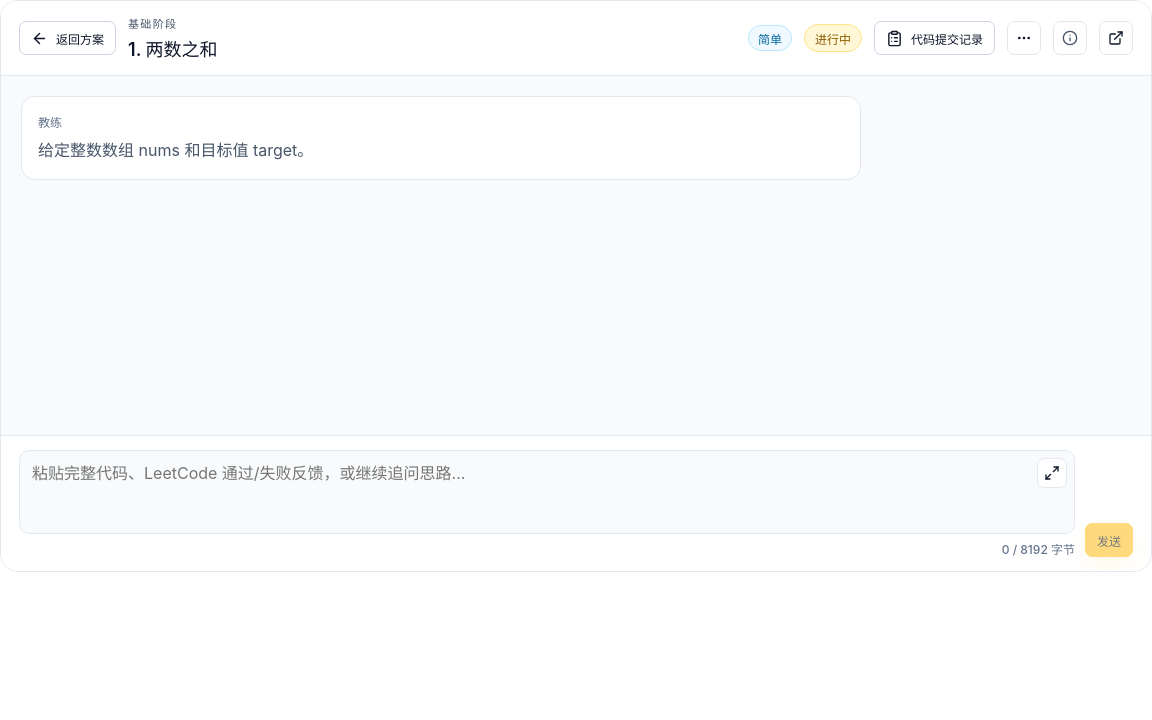
Test: PracticeChatWorkbench run subscription contracts › refreshes persisted messages, session, and reviews after run completion
The image size is (1152, 720).
Type "这是完整代码。" into the text box named "输入你的思路、问题、代码或 LeetCode 反馈" at (547, 492), box [19, 450, 1075, 534]
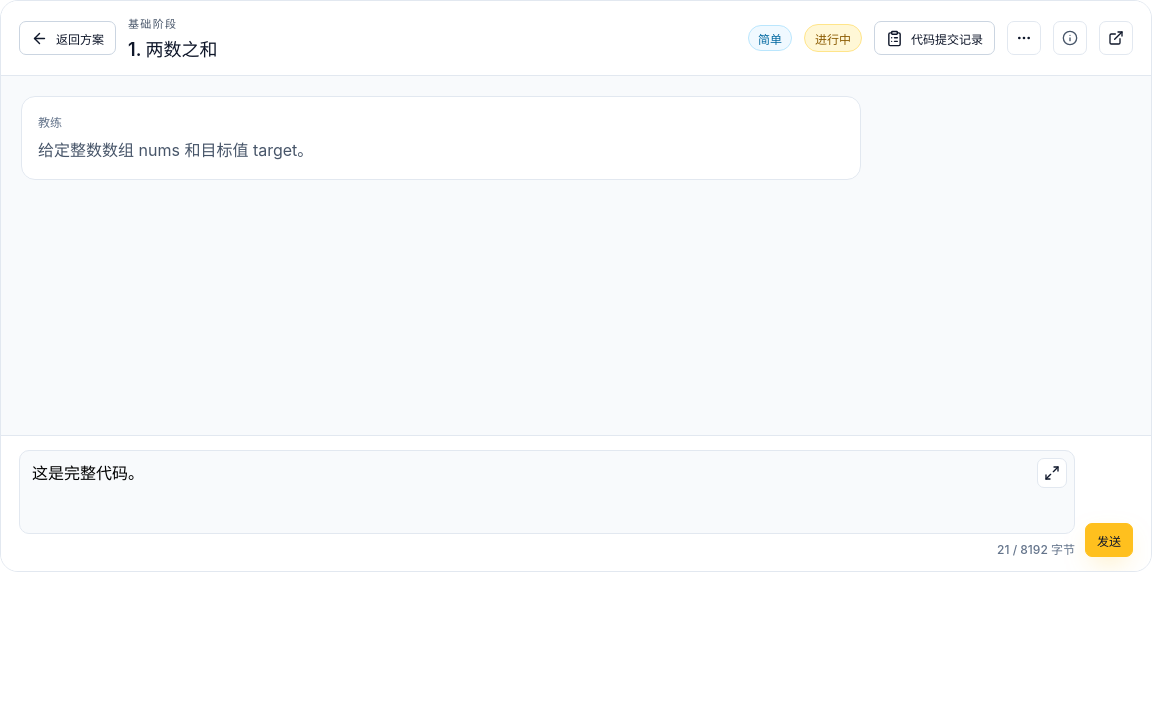
Click the button "发送" at (1109, 540), box [1085, 523, 1133, 557]
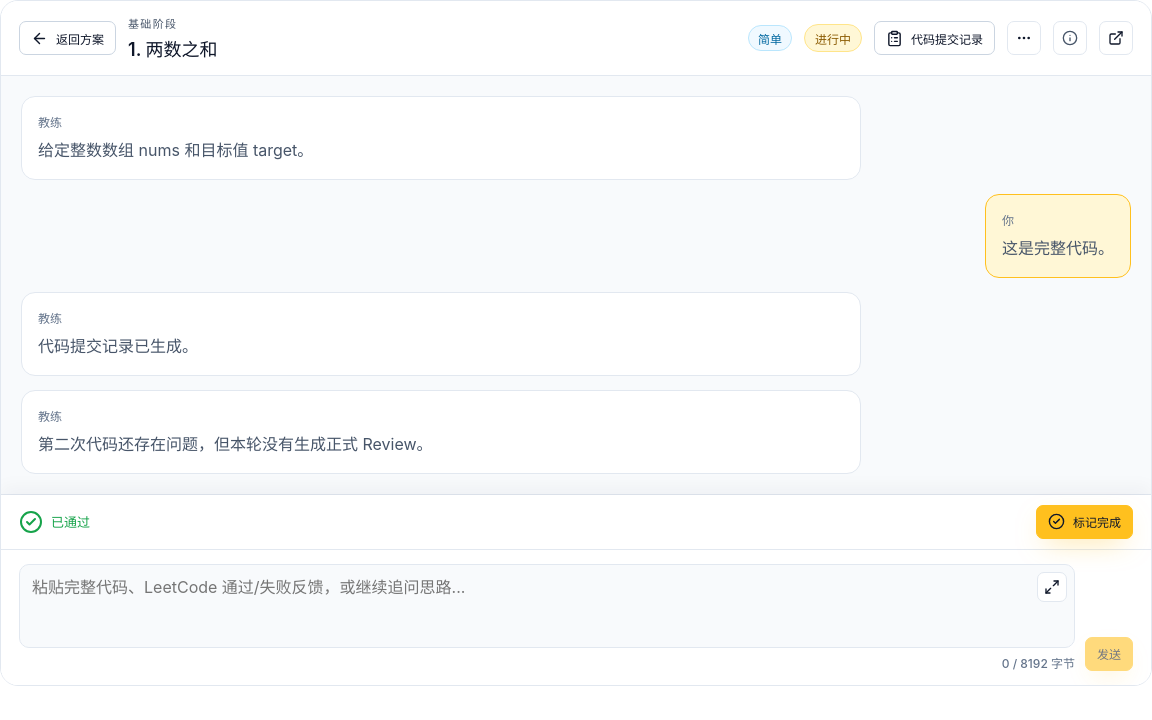
Result: the text "代码提交记录已生成。" is shown at [38, 336, 198, 356]
Result: the button "标记完成" is enabled at [1036, 504, 1133, 538]
Result: the text "第二次代码还存在问题，但本轮没有生成正式 Review。" is shown at [38, 434, 433, 454]
